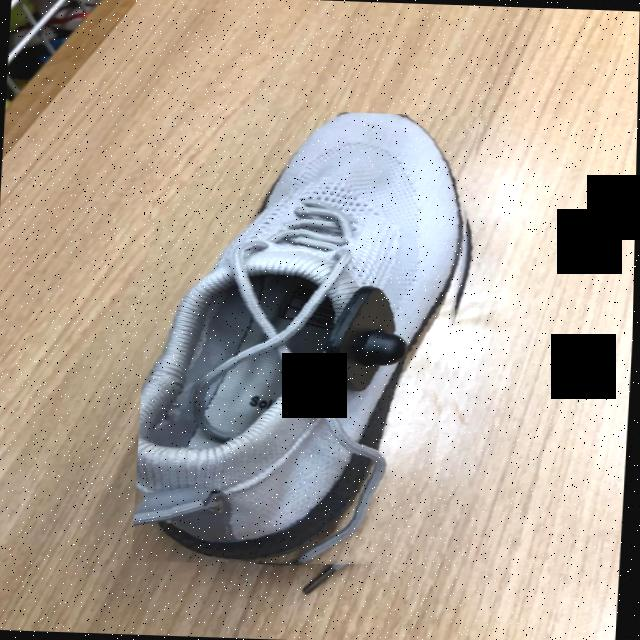shoe: (138, 112, 467, 564)
